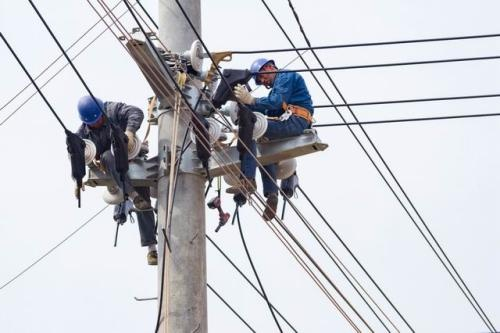blue: (76, 93, 104, 128), (248, 57, 277, 86)
